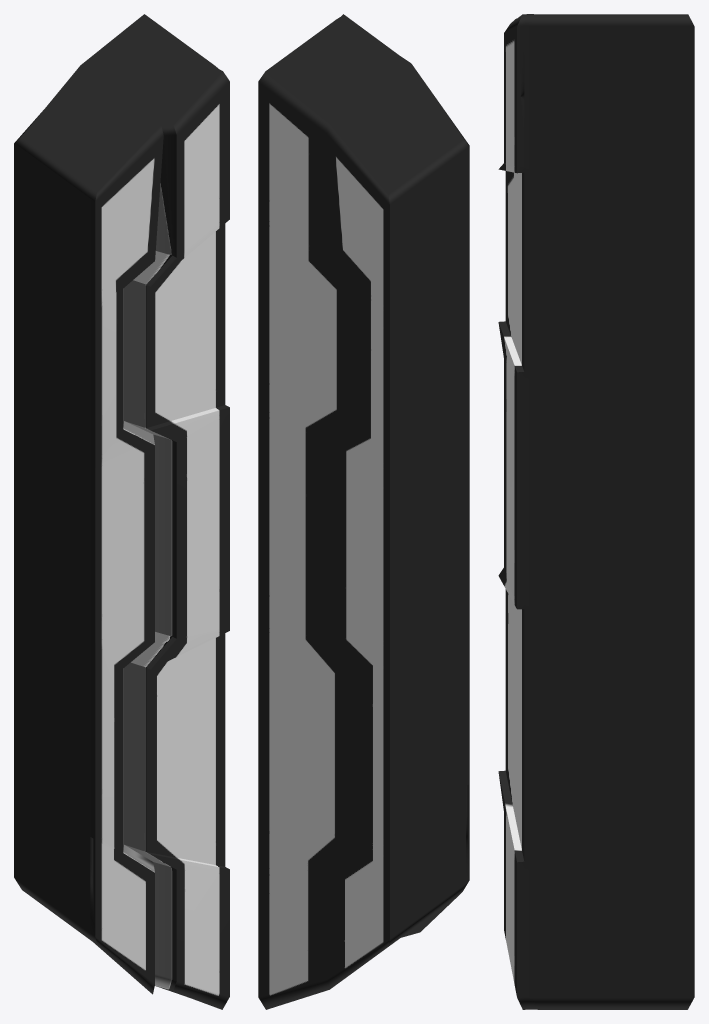
The model's file is portal_frame.fbx.
3 views of the same model, side by side, from view 1: azimuth 30°, elevation 25°; view 2: azimuth 150°, elevation 25°; view 3: azimuth 270°, elevation 25° (orthographic). The views are drawn at different scales.
Visible parts, largest first — view 1: polySurface1, polySurface2; view 2: polySurface1; view 3: polySurface1.
Part boxes in pixels (bbox=[...]): polySurface1: bbox=[14, 14, 229, 1009]; polySurface2: bbox=[123, 183, 172, 989]; polySurface1: bbox=[258, 14, 469, 1009]; polySurface1: bbox=[498, 14, 694, 1009].
Size of the model in its own units: 73.42 by 499 by 89.06.
